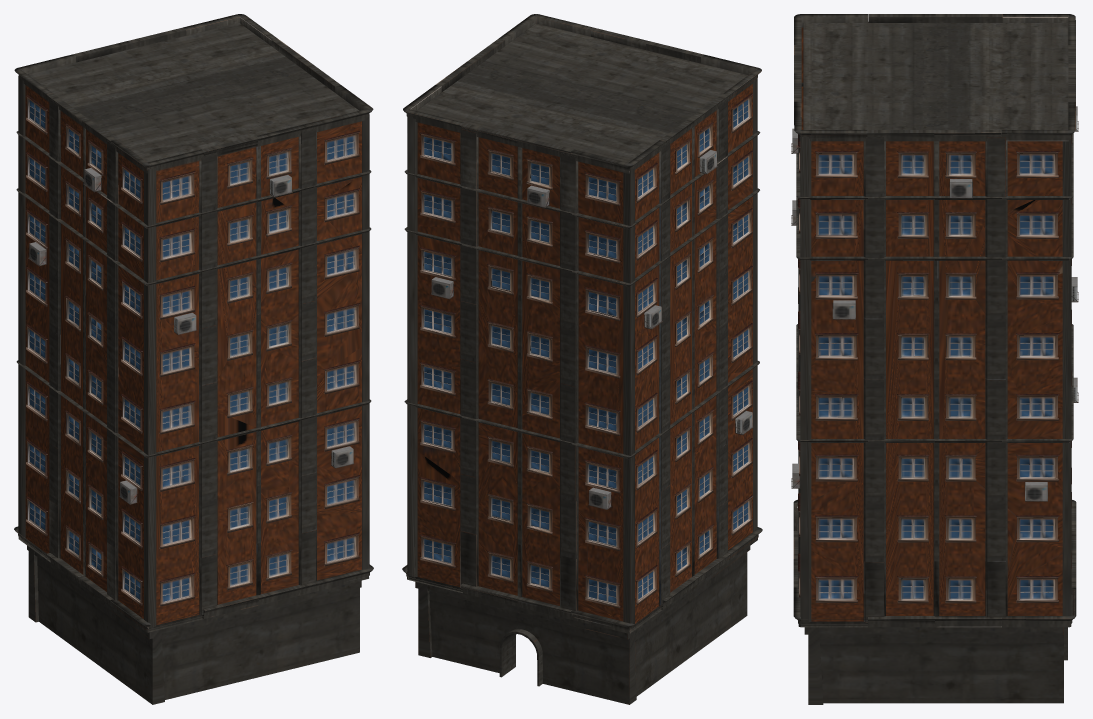
3 views of the same model, side by side, from view 1: azimuth 30°, elevation 25°; view 2: azimuth 150°, elevation 25°; view 3: azimuth 270°, elevation 25° (orthographic). The views are drawn at different scales.
Parts seen in each view (by area): view 1: Building-Small-BAKED.001; view 2: Building-Small-BAKED.001; view 3: Building-Small-BAKED.001.
Boxes of the visible parts, left/top/right/bottom form: Building-Small-BAKED.001: left=14, top=14, right=373, bottom=704; Building-Small-BAKED.001: left=402, top=14, right=762, bottom=704; Building-Small-BAKED.001: left=791, top=14, right=1078, bottom=704.
Size of the model in its own units: 12.88 by 28.5 by 12.88.
1 material, 1 textured.
